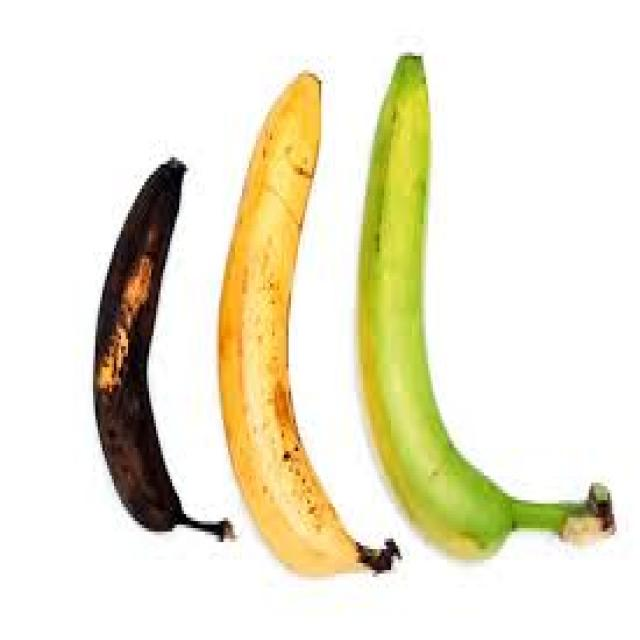non_orange: (351, 46, 560, 560), (214, 63, 360, 590)
